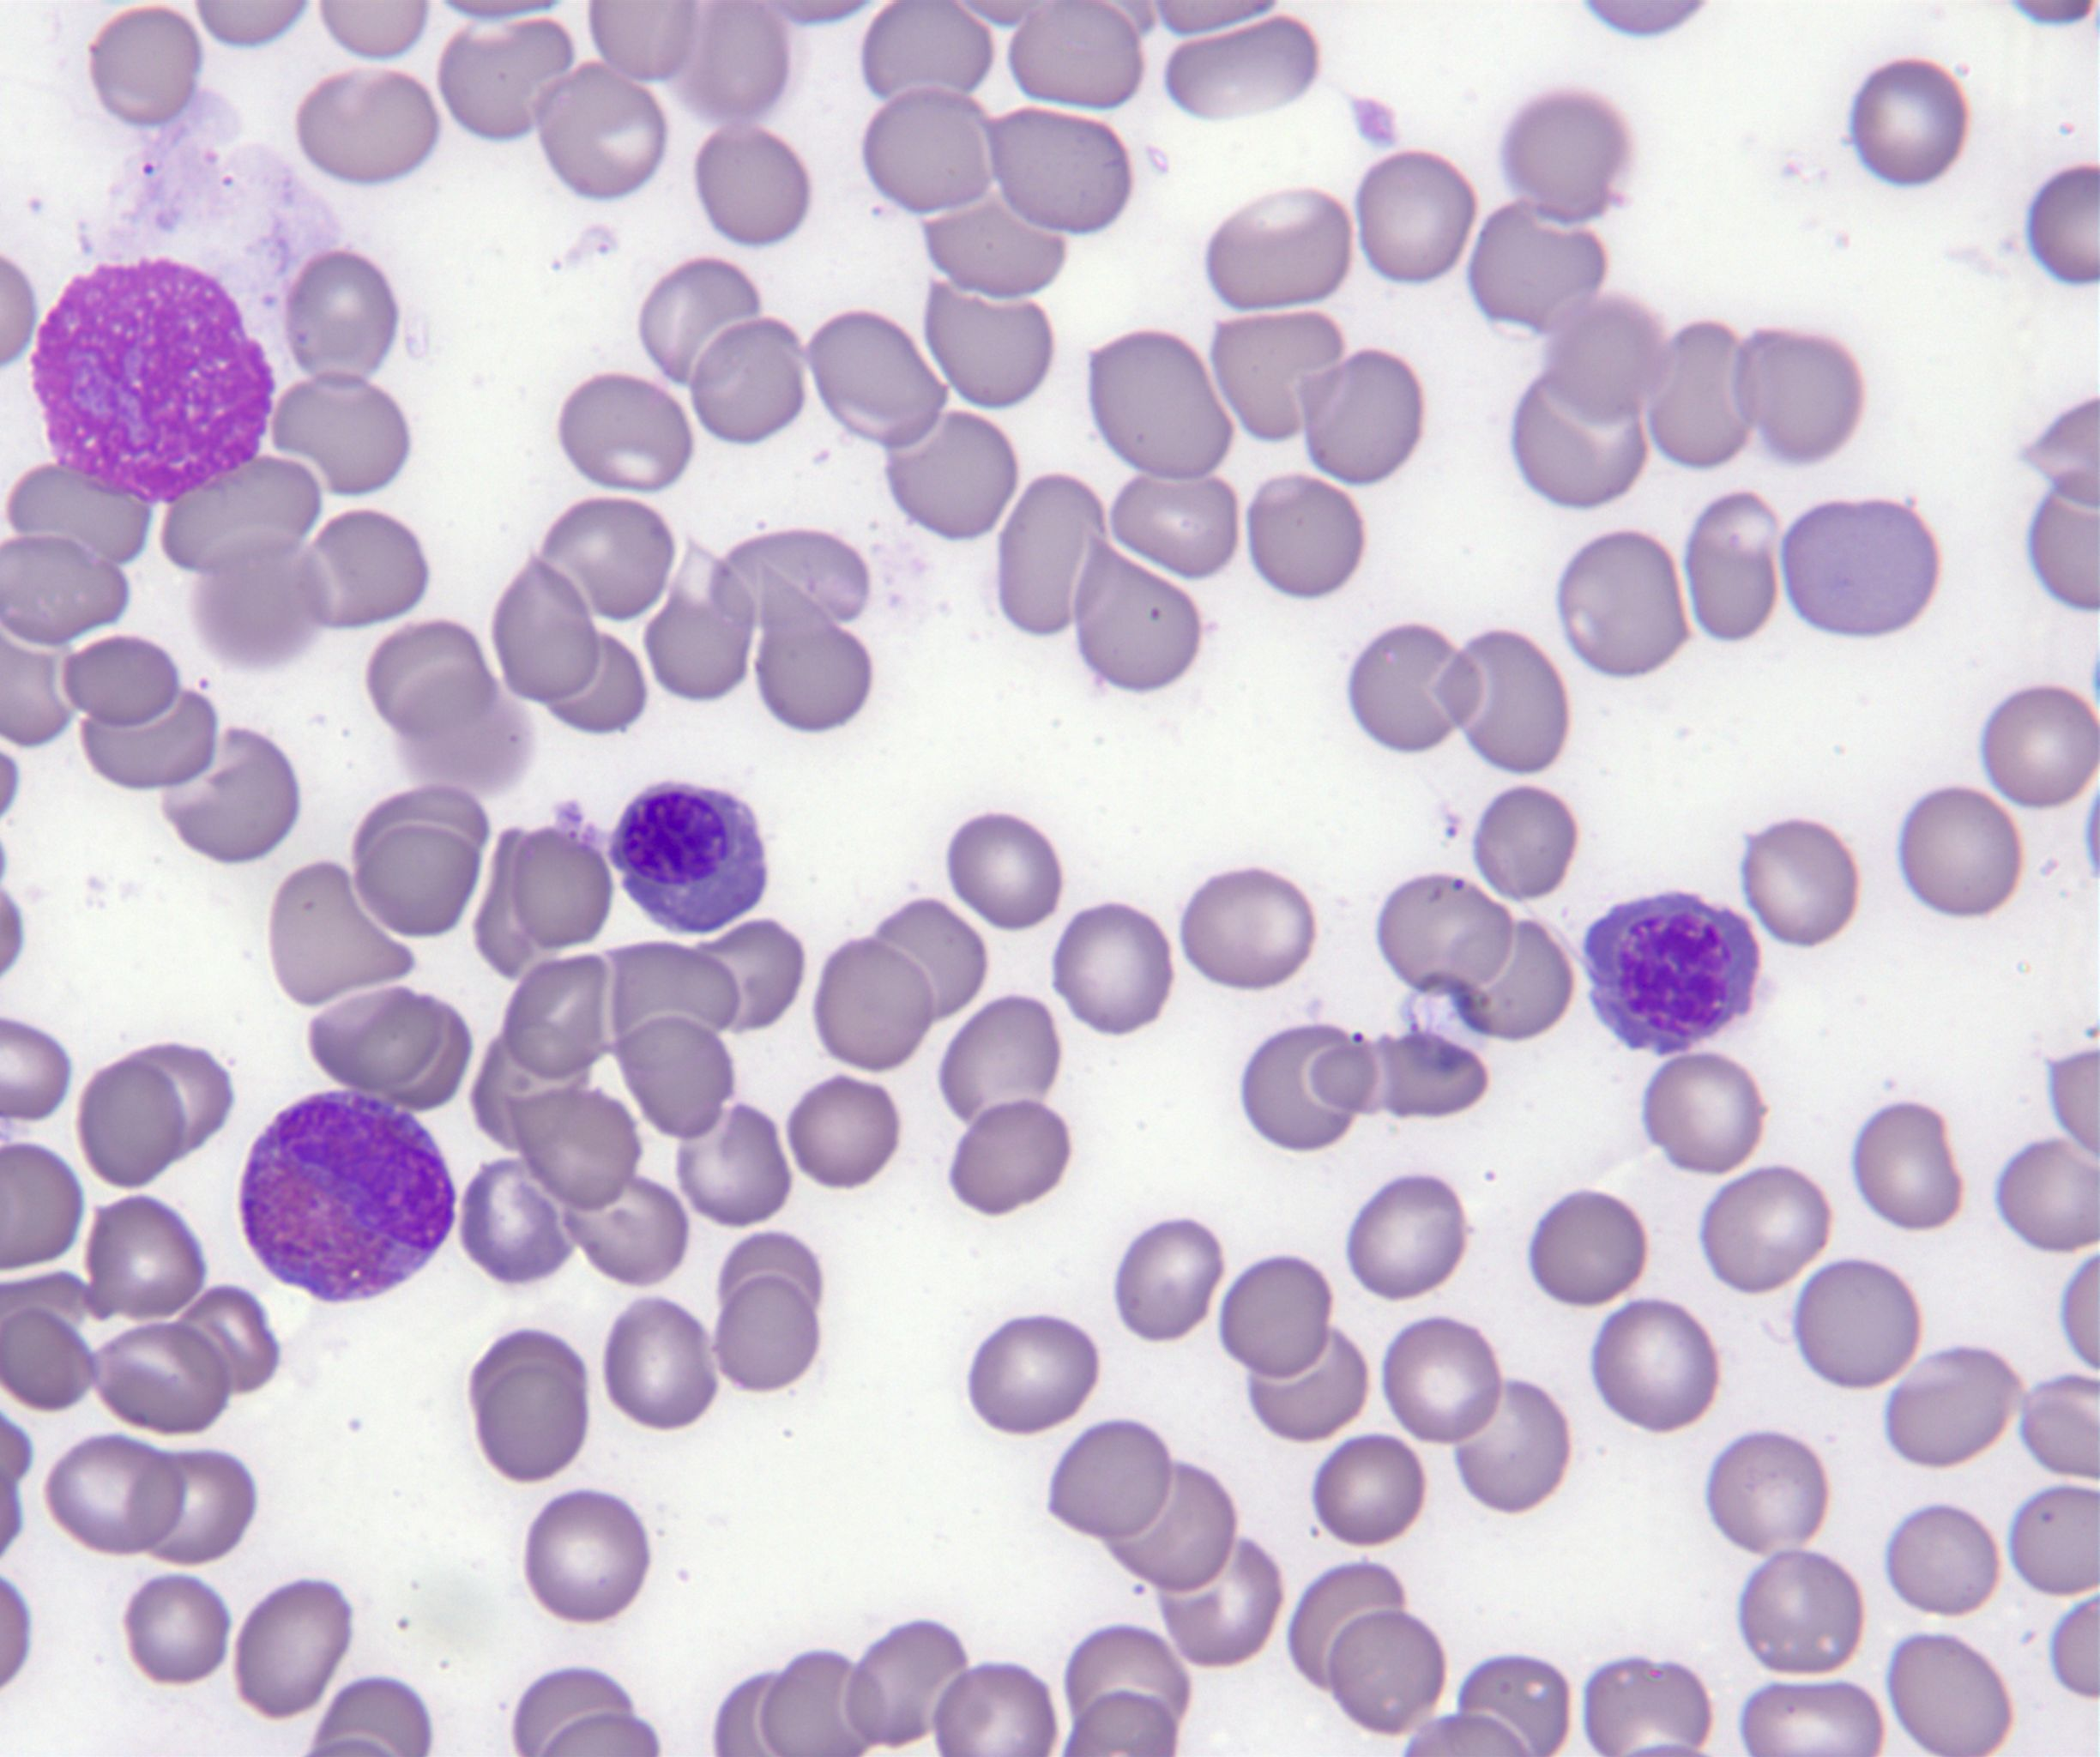23: (1578, 888, 1762, 1056), (607, 778, 769, 935)
E3: (239, 1094, 460, 1305)
